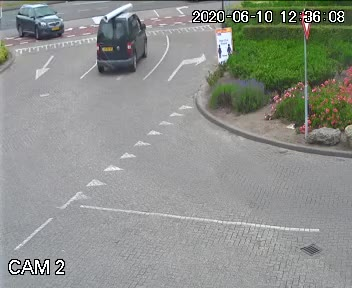car: (87, 13, 149, 83), (13, 0, 64, 43)
